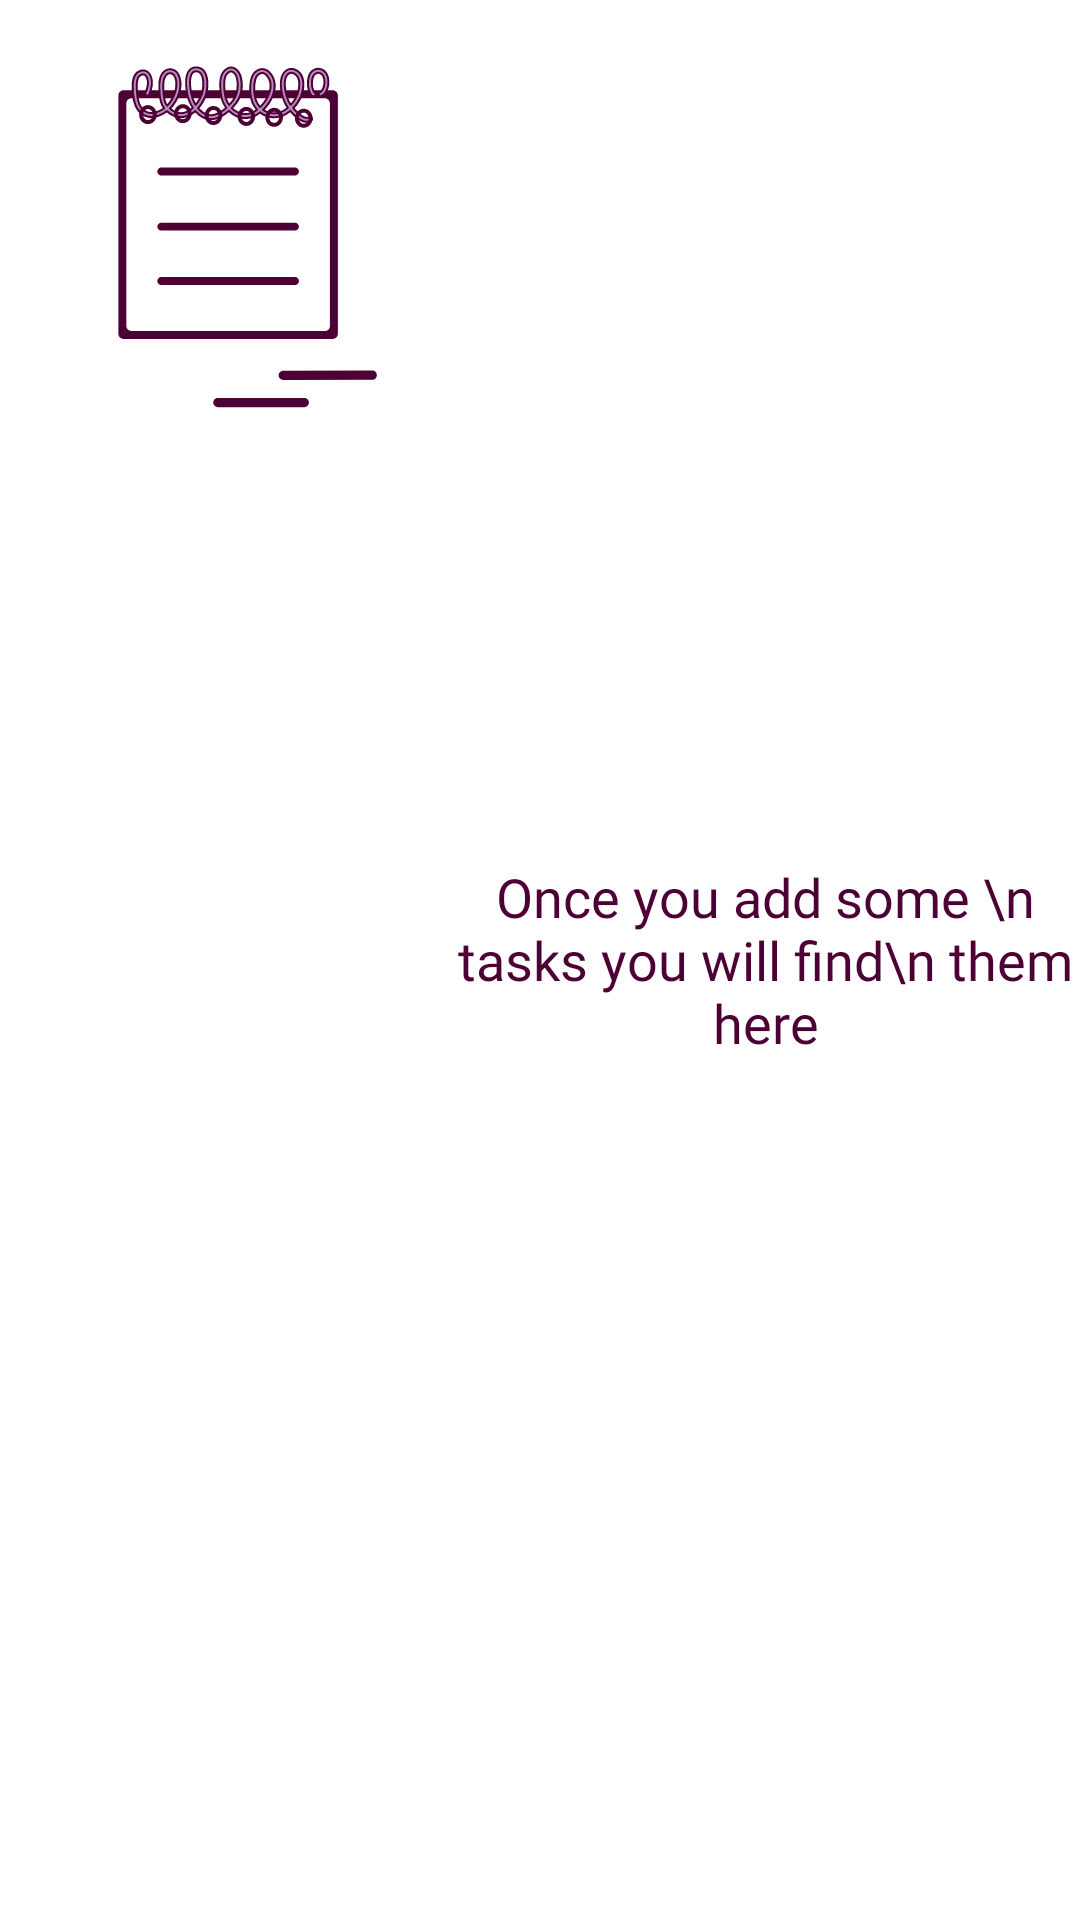

Icon bounding boxes for this 1080px x 1920px phone screenshot, format (x1, y1, x2, y2):
no task: (118, 66, 377, 408)
